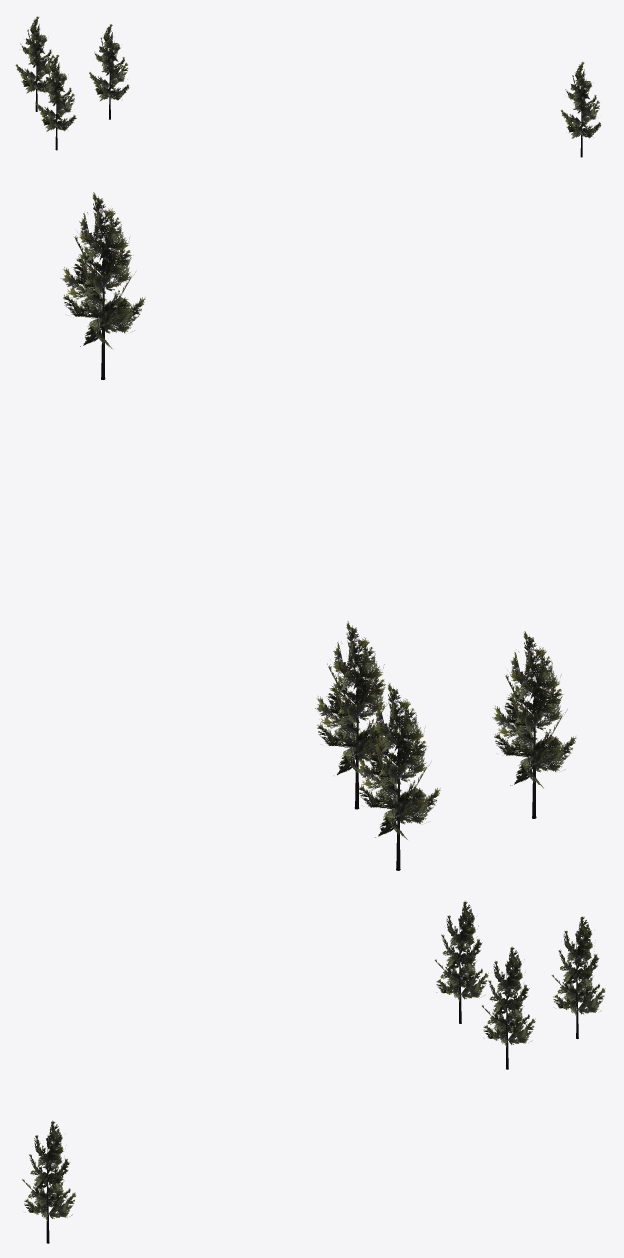
File: trees_cons_gam.fbx
3 renders of one model, top to bottom at view 1: azimuth 30°, elevation 25°; view 2: azimuth 150°, elevation 25°; view 3: azimuth 270°, elevation 25°, orthographic. The views are drawn at different scales.
Parts seen in each view (by area): view 1: polySurface29, polySurface15; view 2: polySurface29, polySurface15; view 3: polySurface29, polySurface15.
Part boxes in pixels (x1,y1,x2,y2): polySurface29: [15, 16, 129, 150]; polySurface15: [560, 62, 601, 157]; polySurface29: [315, 621, 576, 870]; polySurface15: [60, 192, 145, 379]; polySurface29: [434, 901, 605, 1069]; polySurface15: [22, 1120, 76, 1243].
Bounding box in the file's own units: 8923 × 2275 × 8335.
2 materials, 1 textured.
